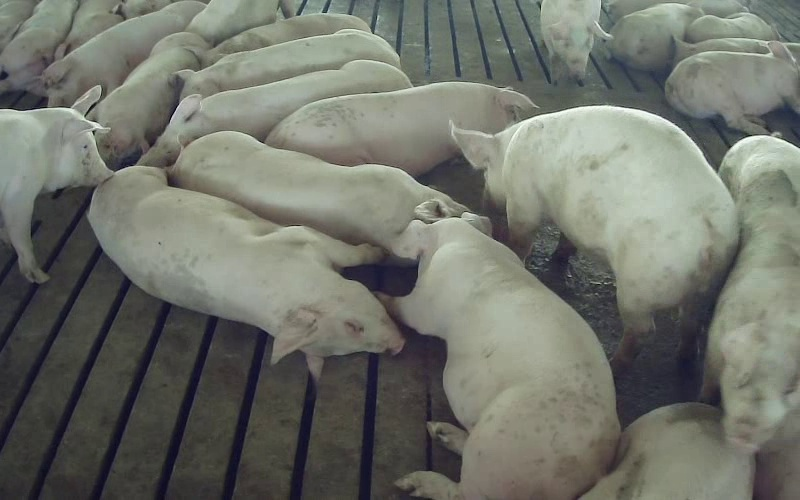pig: (380, 213, 619, 499), (88, 167, 402, 378), (168, 131, 466, 254), (705, 136, 799, 450), (137, 60, 411, 167), (0, 86, 112, 283), (41, 0, 205, 106), (580, 403, 754, 499), (87, 32, 208, 169), (178, 29, 399, 97), (665, 41, 799, 134), (206, 13, 369, 64), (606, 3, 703, 71), (541, 0, 611, 85), (685, 12, 779, 42)
